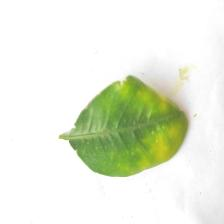greening: (92, 82, 190, 168)
